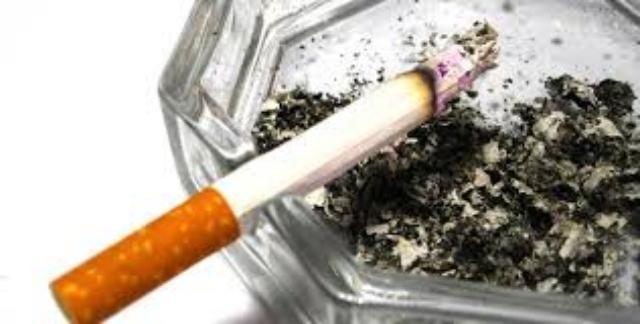Smoking: (46, 19, 502, 324)
